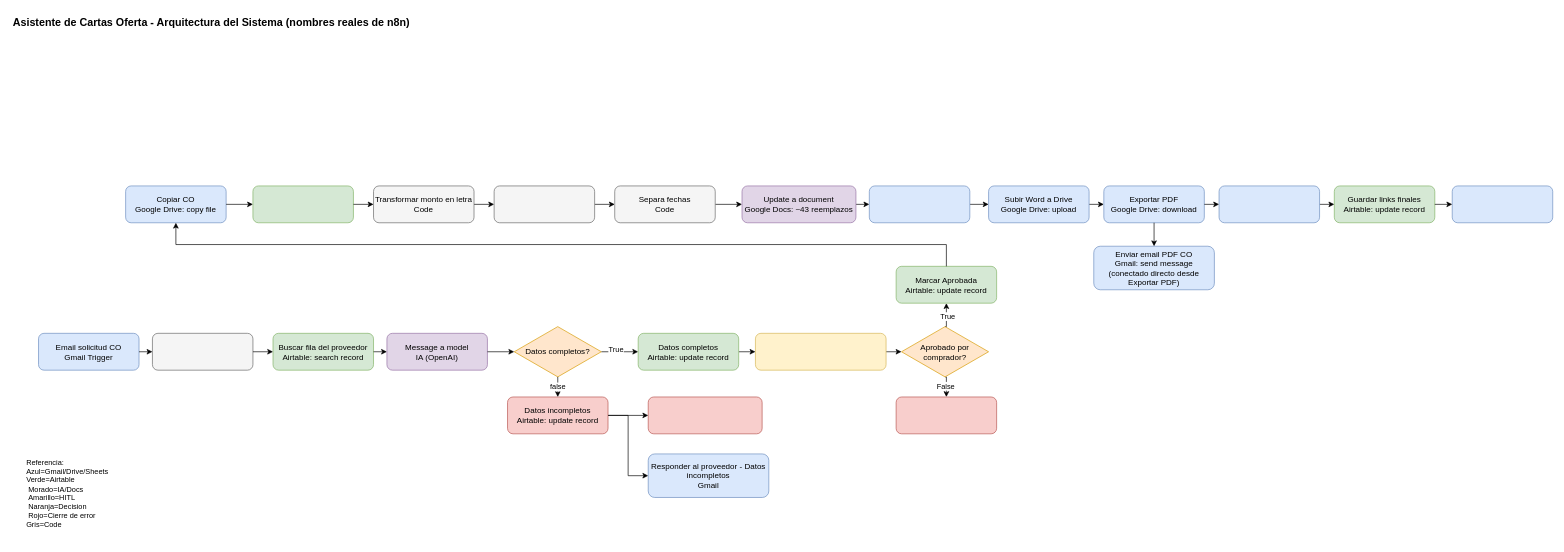
The diagram is 1564 pixels wide and 552 high, and some of its shapes have lost their labels. Each missing label, with the centre of its shape:
Aviso - Datos incompletos Slack: post message: the point at 705,415
Buscar fila de licitacion Airtable: get record: the point at 302,204
Calcula nota combinada Code: the point at 544,204
Completar Status CO Google Sheets: append: the point at 1502,204
Exportacion a Word Google Drive: download: the point at 919,204
Extraer nombre del proveedor (Edit Fields): the point at 202,351
HITL - Validacion datos extraidos Slack: send and wait: the point at 820,351
Marcar Rechazado Airtable: update record: the point at 946,415
Subir PDF a Drive Google Drive: upload: the point at 1269,204
